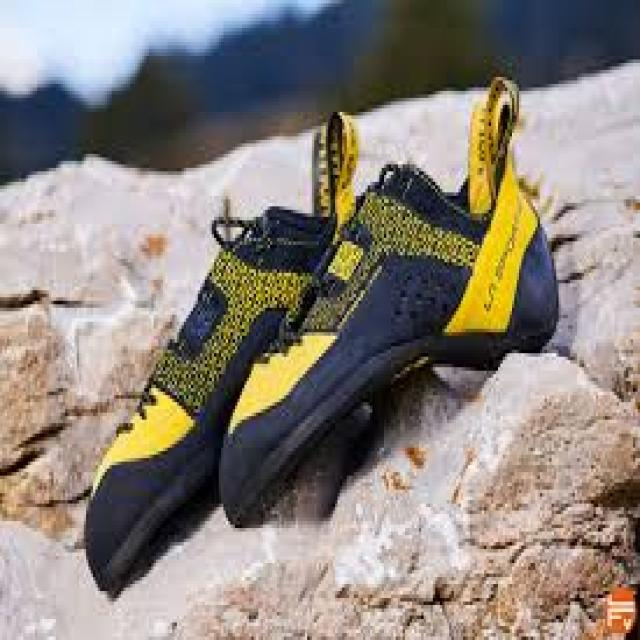climbing-shoes: (220, 132, 557, 529), (84, 165, 362, 589)
